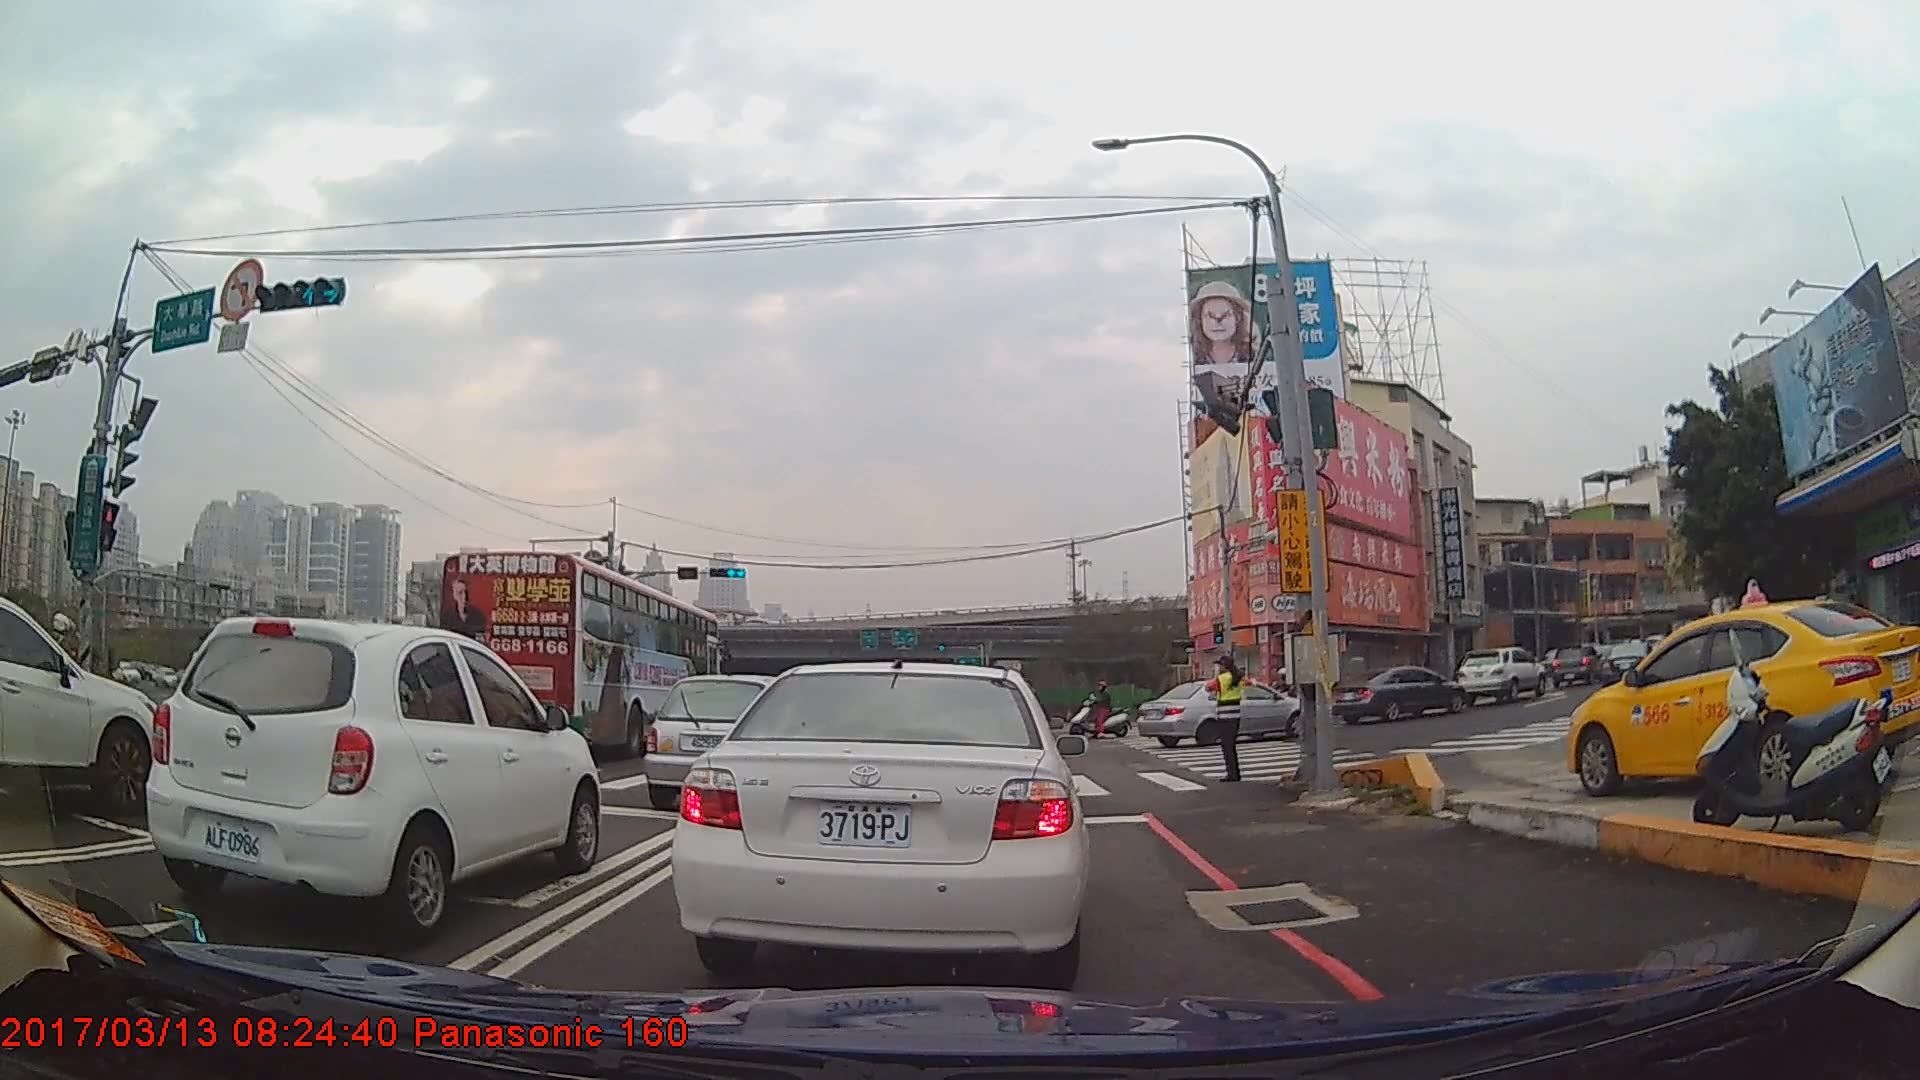pedestrian: (1205, 655, 1248, 785), (185, 637, 223, 744)
rider: (43, 614, 103, 731), (1072, 682, 1133, 738)
vehicle: (141, 613, 600, 931), (668, 658, 1087, 980), (1566, 599, 1920, 797), (433, 551, 725, 759), (0, 596, 164, 817), (642, 672, 827, 809), (1131, 676, 1308, 748), (1330, 664, 1465, 724), (1457, 645, 1545, 707), (1598, 638, 1662, 693), (1551, 642, 1603, 688)
